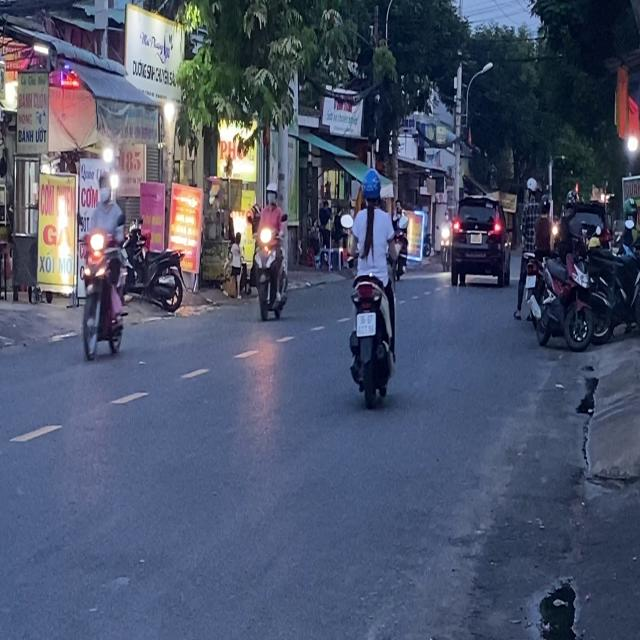helmet: (361, 167, 381, 205), (96, 167, 112, 203), (264, 182, 278, 206)
licenseplate: (346, 166, 400, 406), (77, 166, 130, 362), (252, 181, 289, 322)
nohelmet: (357, 312, 375, 335)
